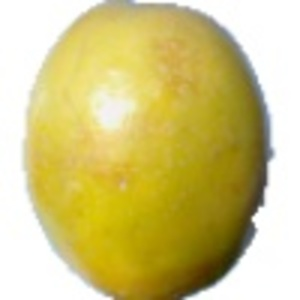maracujá: (22, 1, 277, 300)
